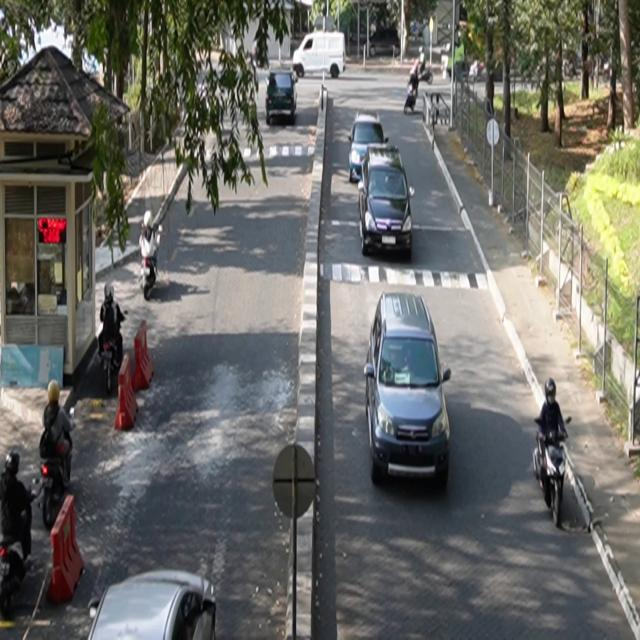car: (365, 291, 452, 487), (86, 570, 218, 640), (358, 144, 416, 260), (349, 114, 389, 184), (266, 71, 298, 126)
truck: (293, 31, 347, 79)
